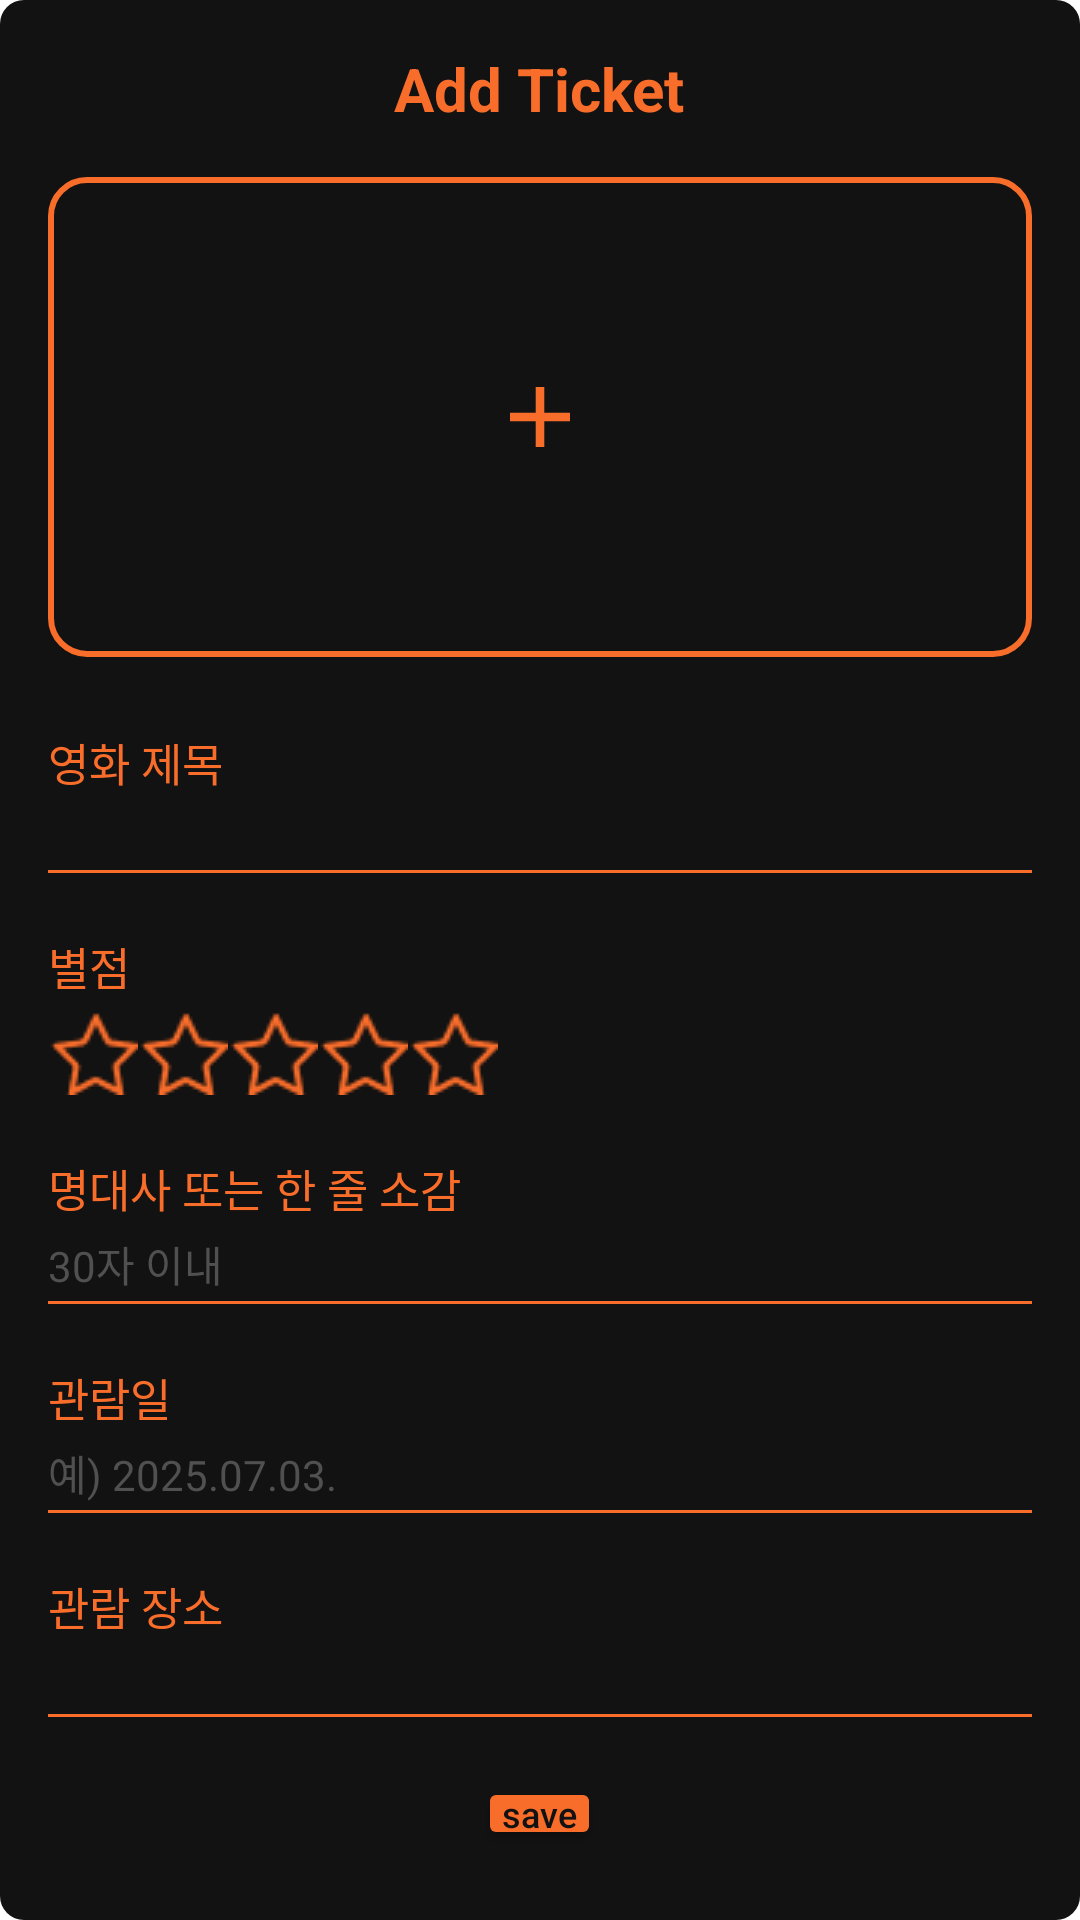

Where to tap for icons on this 1080×1920 app screen, as (x,y):
add: (540,417)
